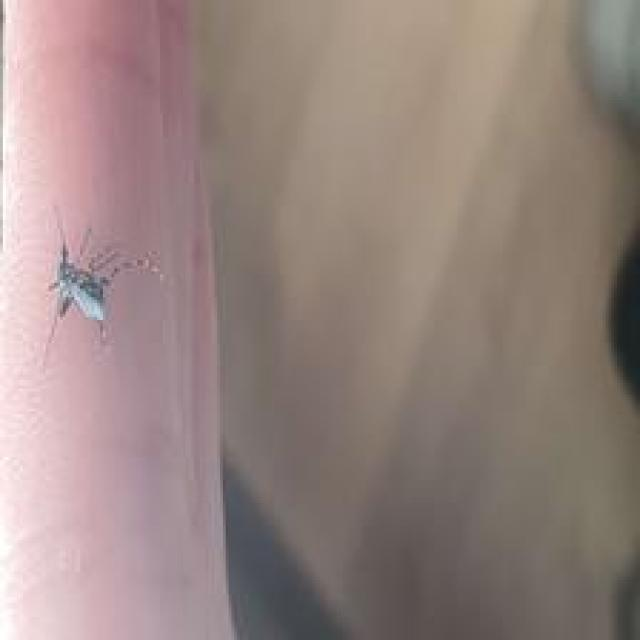Aedes albopictus: (43, 204, 163, 353)
